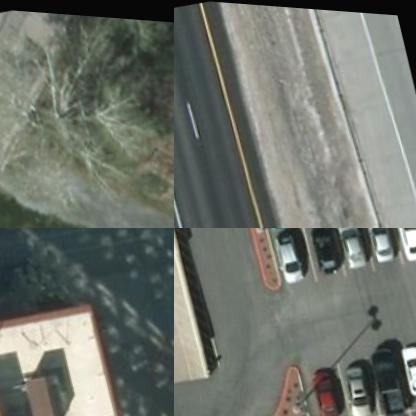car: (372, 343, 410, 407), (313, 352, 351, 415), (346, 346, 382, 411), (273, 228, 312, 284), (306, 228, 344, 277), (336, 228, 374, 271), (364, 228, 402, 266), (400, 330, 415, 395), (393, 228, 415, 261)
